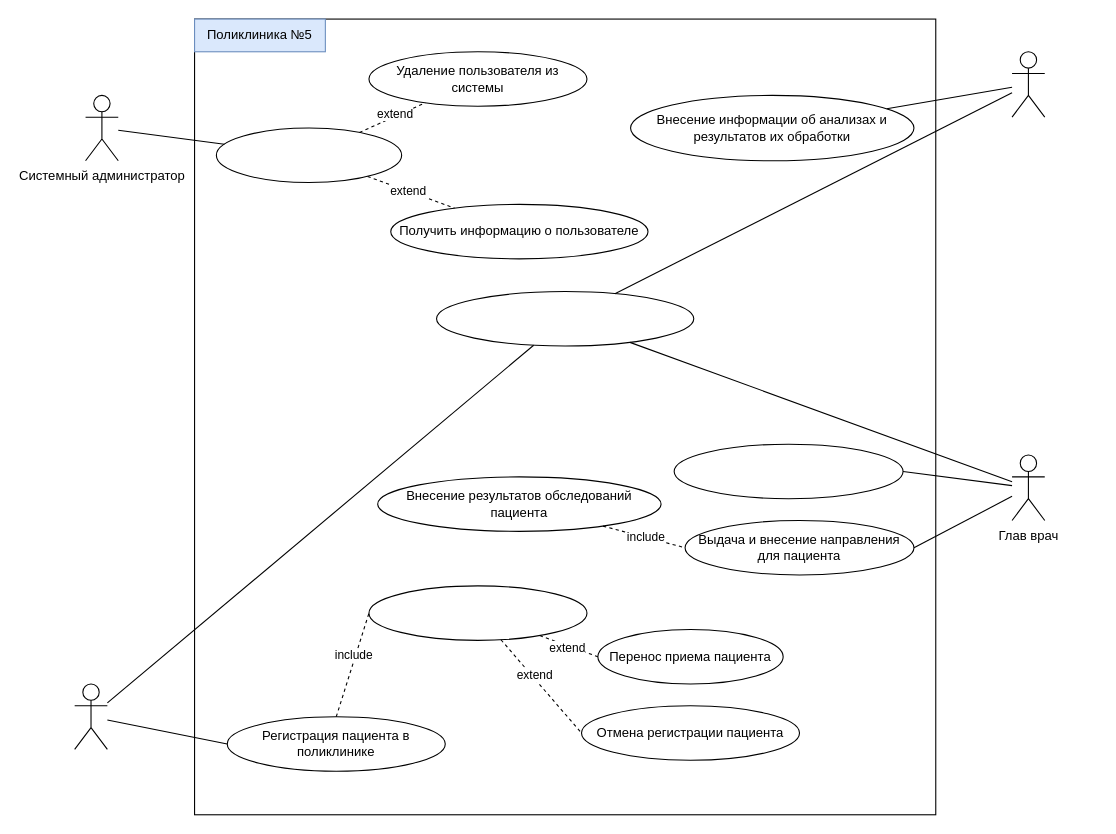
Image size: 1116x834. Some labels were removed from this diagram. The centre of each missing label's shape, as x and y in pixels:
Внесение обращения пациента: pixel 788 471
Получить информацию о пациенте: pixel 564 318
Работник лаборатории: pixel 1028 84
Работник регистратуры: pixel 90 716
Регистрация нового пользователя: pixel 308 155
Регистрация пациента на прием: pixel 477 612
